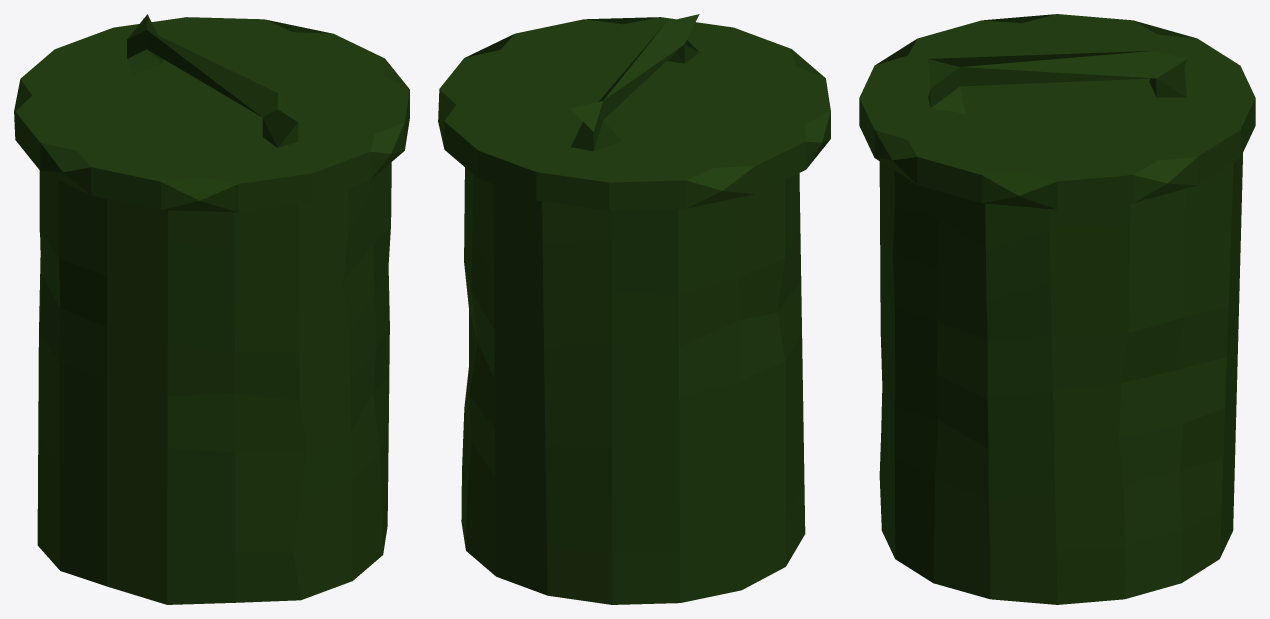
File: bingarbage.gltf
3 renders of one model, left to right at view 1: azimuth 30°, elevation 25°; view 2: azimuth 150°, elevation 25°; view 3: azimuth 270°, elevation 25°, orthographic.
Parts seen in each view (by area): view 1: Cylinder, Cylinder.001; view 2: Cylinder, Cylinder.001; view 3: Cylinder, Cylinder.001.
Boxes of the visible parts, <box> form: Cylinder: <box>37,162,391,604</box>; Cylinder.001: <box>14,14,409,212</box>; Cylinder: <box>461,167,805,604</box>; Cylinder.001: <box>438,14,830,210</box>; Cylinder: <box>879,153,1242,604</box>; Cylinder.001: <box>859,14,1255,209</box>.
Bounding box in the file's own units: 2 × 2.63 × 2.
